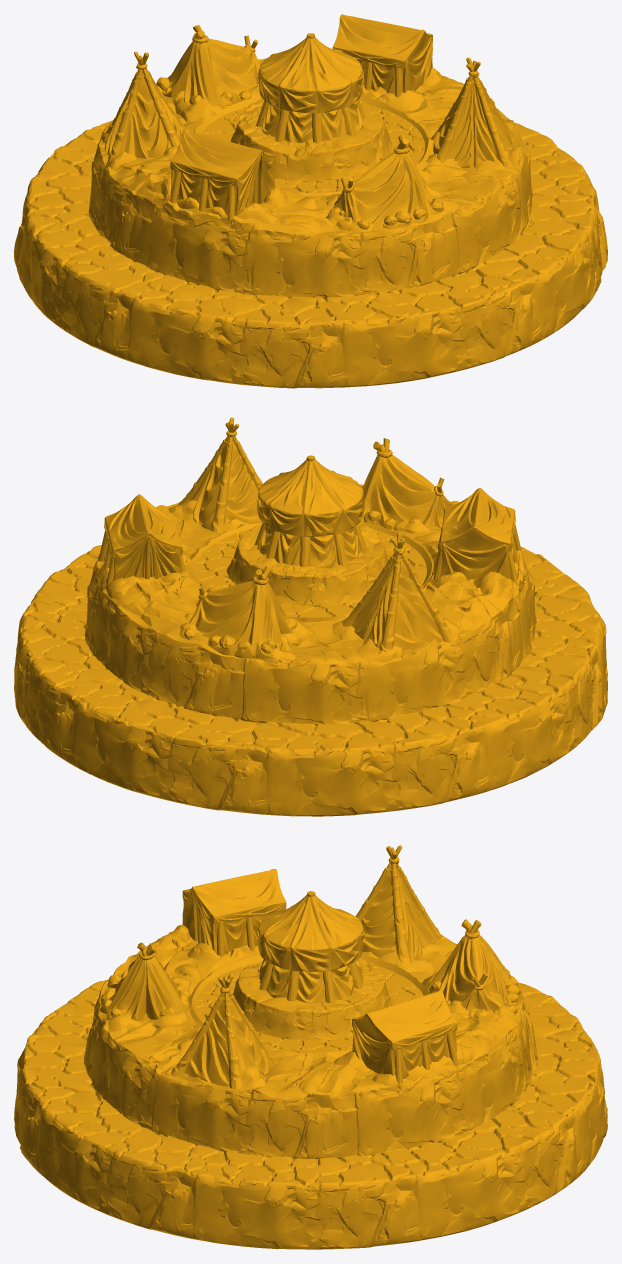
Rendered from Haven_Bottom_Yellow.obj.
3 renders of one model, top to bottom at view 1: azimuth 30°, elevation 25°; view 2: azimuth 150°, elevation 25°; view 3: azimuth 270°, elevation 25°, orthographic.
Visible parts, largest first — view 1: HavenBottom_Decimate_0; view 2: HavenBottom_Decimate_0; view 3: HavenBottom_Decimate_0.
Part boxes in pixels (x1=…): HavenBottom_Decimate_0: x1=14, y1=14, x2=607, y2=388; HavenBottom_Decimate_0: x1=14, y1=417, x2=607, y2=816; HavenBottom_Decimate_0: x1=14, y1=845, x2=607, y2=1249.
Size of the model in its own units: 2.7 by 1.18 by 2.7.
